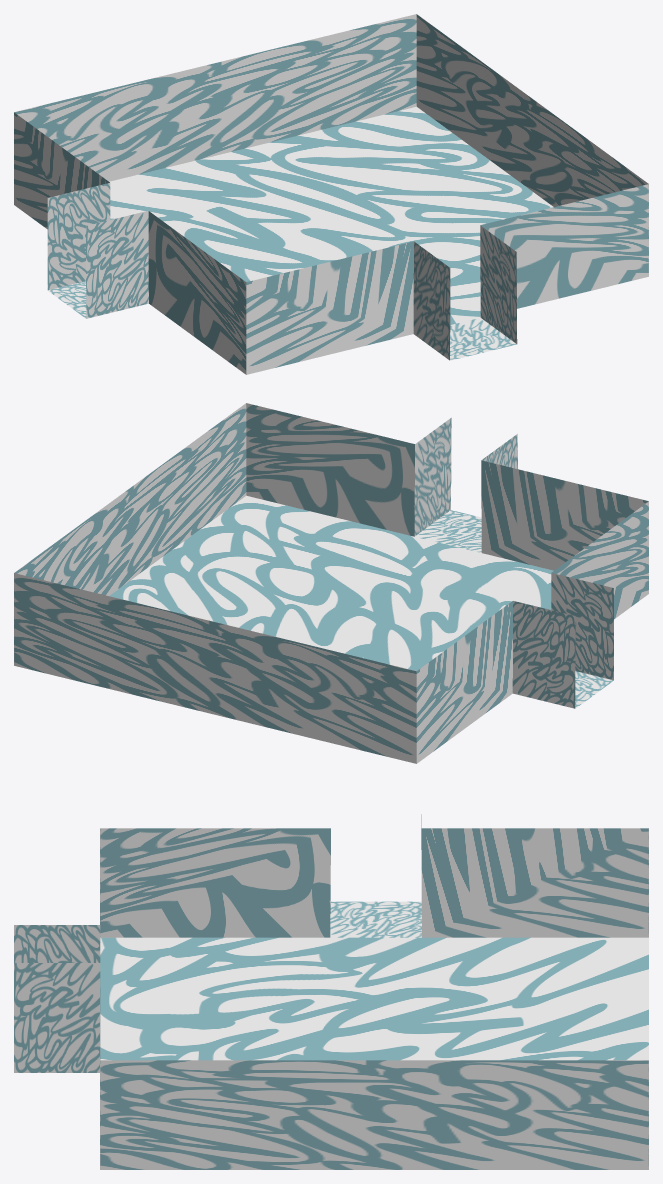
The model's file is Blue_Squiggles_Rm_Coll.fbx.
3 renders of one model, top to bottom at view 1: azimuth 30°, elevation 25°; view 2: azimuth 150°, elevation 25°; view 3: azimuth 270°, elevation 25°, orthographic. The views are drawn at different scales.
Parts seen in each view (by area): view 1: P_Blue_Squiggles_Rm_Coll; view 2: P_Blue_Squiggles_Rm_Coll; view 3: P_Blue_Squiggles_Rm_Coll.
Part boxes in pixels (left/top/right/bottom): P_Blue_Squiggles_Rm_Coll: left=14, top=14, right=648, bottom=374; P_Blue_Squiggles_Rm_Coll: left=14, top=403, right=648, bottom=763; P_Blue_Squiggles_Rm_Coll: left=14, top=814, right=648, bottom=1169.
Bounding box in the file's own units: 24.46 × 4.66 × 24.47.
